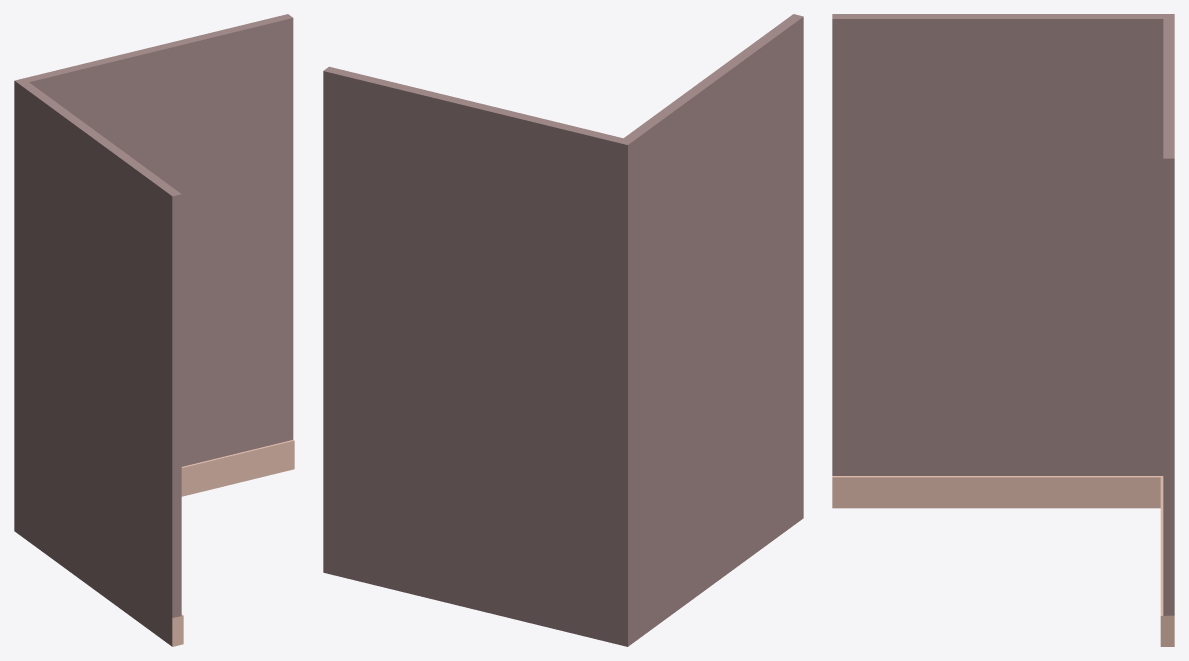
The model's file is SM_L_Wall_1_01.fbx.
3 renders of one model, left to right at view 1: azimuth 30°, elevation 25°; view 2: azimuth 150°, elevation 25°; view 3: azimuth 270°, elevation 25°, orthographic. The views are drawn at different scales.
Parts seen in each view (by area): view 1: SM_L_Wall_1_01; view 2: SM_L_Wall_1_01; view 3: SM_L_Wall_1_01.
Boxes of the visible parts, x1=… form: SM_L_Wall_1_01: x1=14, y1=14, x2=294, y2=646; SM_L_Wall_1_01: x1=323, y1=14, x2=803, y2=646; SM_L_Wall_1_01: x1=832, y1=14, x2=1174, y2=646.
Bounding box in the file's own units: 188 × 295 × 188.
